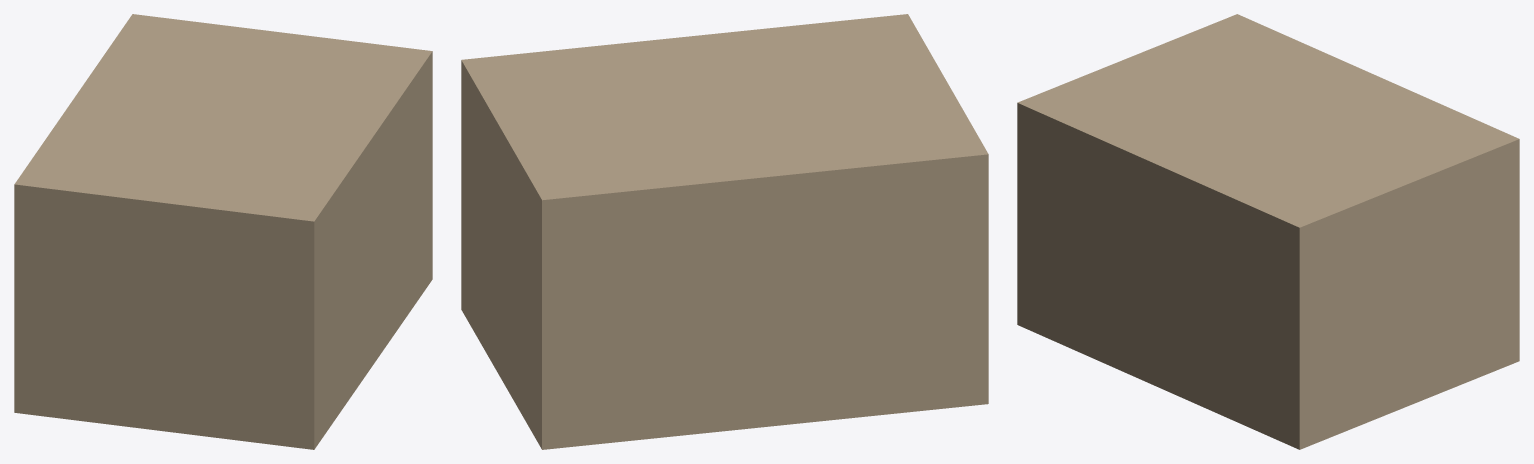
The model's file is bld_101374645.dae.
3 views of the same model, side by side, from view 1: azimuth 30°, elevation 25°; view 2: azimuth 150°, elevation 25°; view 3: azimuth 270°, elevation 25° (orthographic). The views are drawn at different scales.
Visible parts, largest first — view 1: bld_101374645; view 2: bld_101374645; view 3: bld_101374645.
Part boxes in pixels (x1,y1,x2,y2): bld_101374645: (14, 14, 432, 449); bld_101374645: (461, 14, 988, 449); bld_101374645: (1017, 14, 1519, 449).
Bounding box in the file's own units: 16.51 × 16.39 × 8.
